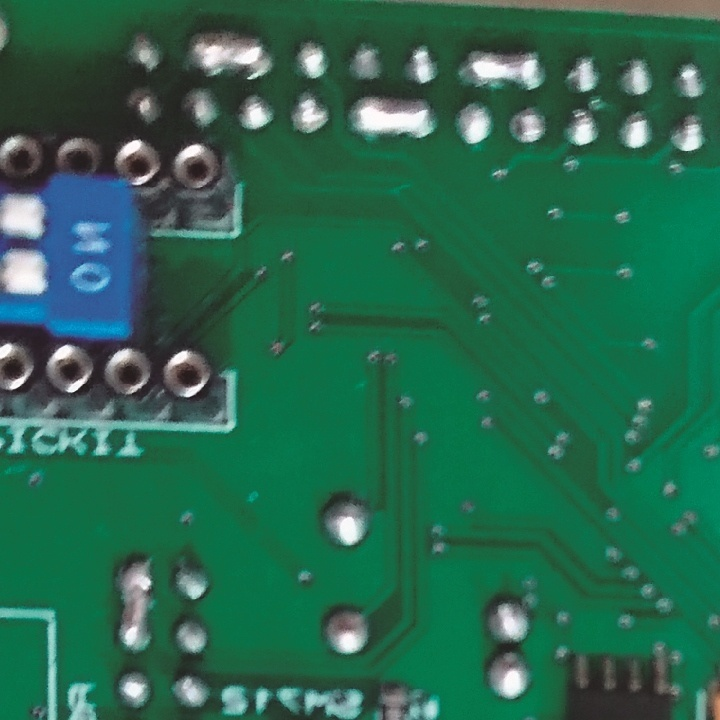F: (284, 86, 330, 140), (504, 106, 547, 147)
P: (186, 29, 278, 82), (115, 554, 157, 656), (347, 95, 436, 140), (461, 49, 547, 94)
